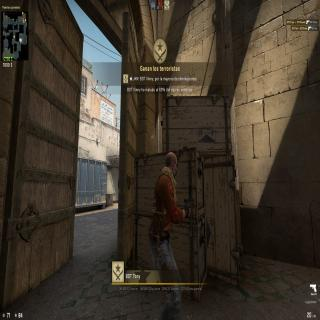T-Head: (163, 148, 179, 177)
